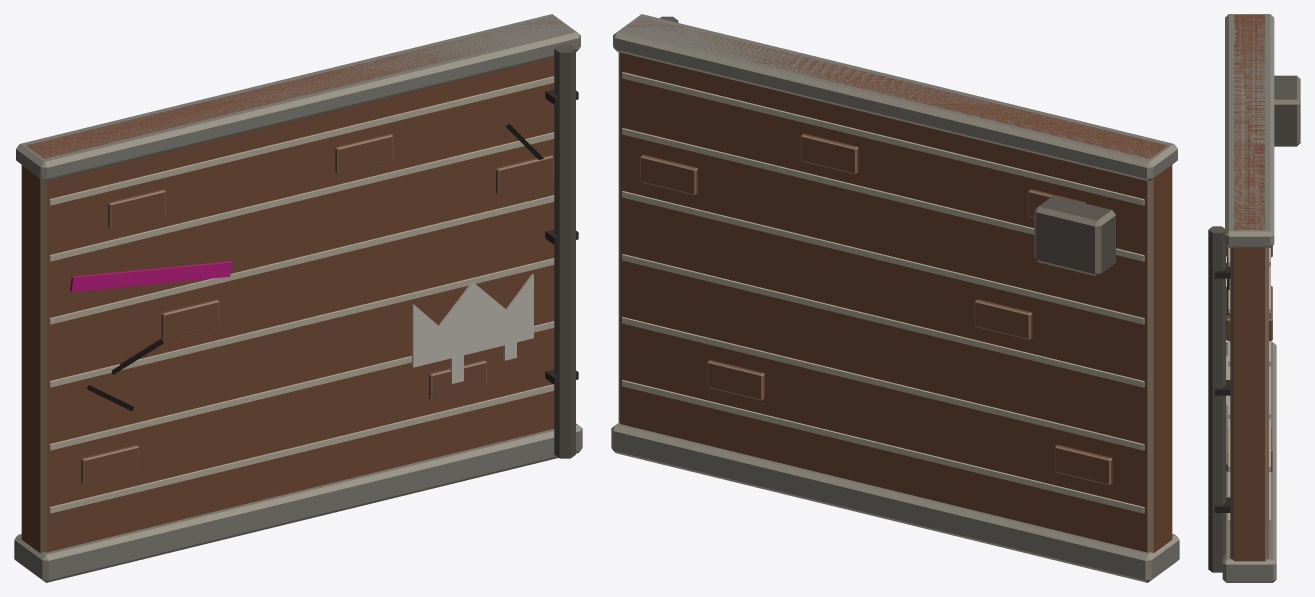
File: b_wall_brick.glb
3 renders of one model, left to right at view 1: azimuth 30°, elevation 25°; view 2: azimuth 150°, elevation 25°; view 3: azimuth 270°, elevation 25°, orthographic. The views are drawn at different scales.
Visible parts, largest first — view 1: b_wall_brick; view 2: b_wall_brick; view 3: b_wall_brick.
Boxes of the visible parts, x1,y1,x2,y2 form: b_wall_brick: (14, 14, 582, 582); b_wall_brick: (611, 14, 1179, 582); b_wall_brick: (1208, 14, 1300, 582).
Bounding box in the file's own units: 4.04 × 3 × 0.715.
